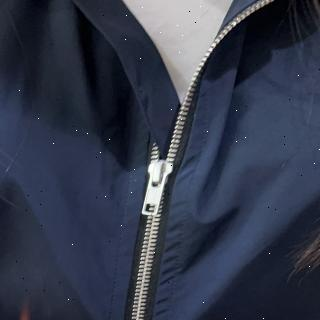fire: (9, 307, 30, 320)
